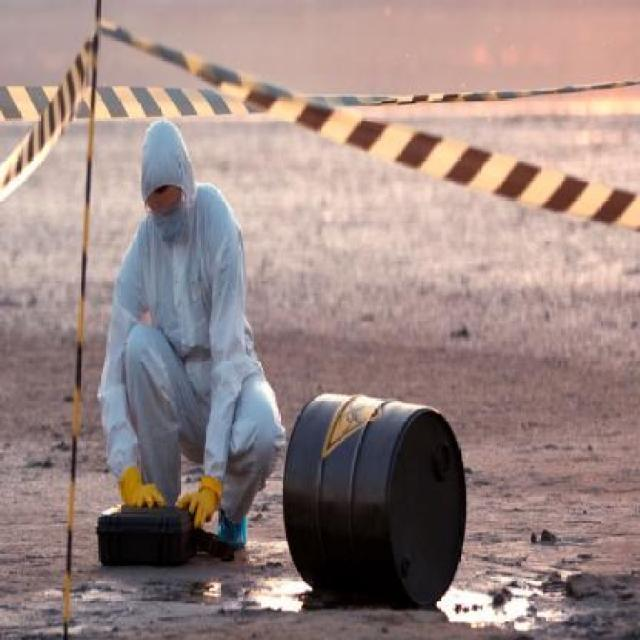spillage: (92, 559, 311, 612), (436, 588, 550, 625)
